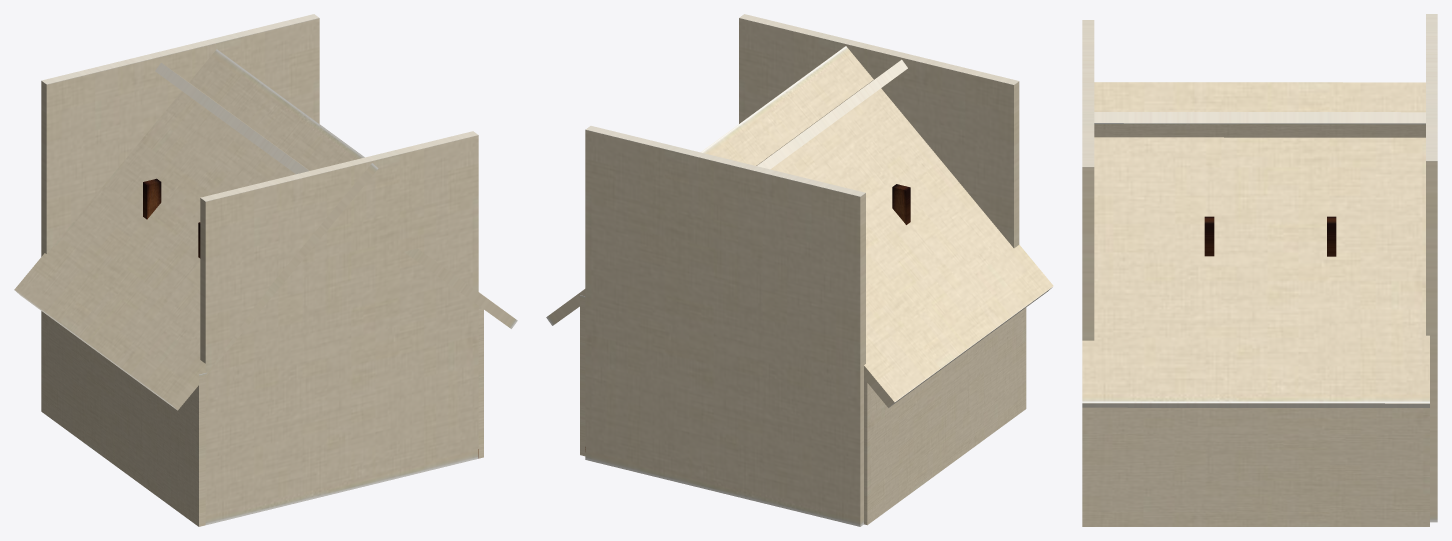
File: pingpong_final_texture_fixed.gltf
3 views of the same model, side by side, from view 1: azimuth 30°, elevation 25°; view 2: azimuth 150°, elevation 25°; view 3: azimuth 270°, elevation 25° (orthographic). The views are drawn at different scales.
Visible parts, largest first — view 1: Plane.012, Plane.026, Plane.016, Plane.011, Plane.015, Plane.013, Plane.035; view 2: Plane.016, Plane.026, Plane.012, Plane.011, Plane.015, Plane.013, Plane.034; view 3: Plane.015, Plane.013, Plane.026, Plane.016, Plane.012, Plane.033.
Boxes of the visible parts, left/top/right/bottom form: Plane.012: left=200, top=131, right=478, bottom=524; Plane.026: left=14, top=49, right=378, bottom=410; Plane.016: left=41, top=14, right=319, bottom=256; Plane.011: left=41, top=311, right=208, bottom=526; Plane.015: left=155, top=62, right=517, bottom=328; Plane.013: left=478, top=306, right=483, bottom=458; Plane.035: left=143, top=178, right=161, bottom=219; Plane.016: left=585, top=126, right=865, bottom=526; Plane.026: left=700, top=46, right=1053, bottom=407; Plane.012: left=739, top=14, right=1019, bottom=248; Plane.011: left=864, top=307, right=1026, bottom=525; Plane.015: left=546, top=59, right=907, bottom=325; Plane.013: left=580, top=295, right=585, bottom=456; Plane.034: left=892, top=184, right=910, bottom=224; Plane.015: left=1082, top=82, right=1429, bottom=407; Plane.013: left=1082, top=407, right=1429, bottom=526; Plane.026: left=1094, top=112, right=1425, bottom=137; Plane.016: left=1426, top=14, right=1437, bottom=522; Plane.012: left=1082, top=20, right=1094, bottom=340; Plane.033: left=1204, top=216, right=1214, bottom=256.
Bounding box in the file's own units: 49.25 × 44.53 × 39.69.
Materials: 186 (186 with a texture image).
